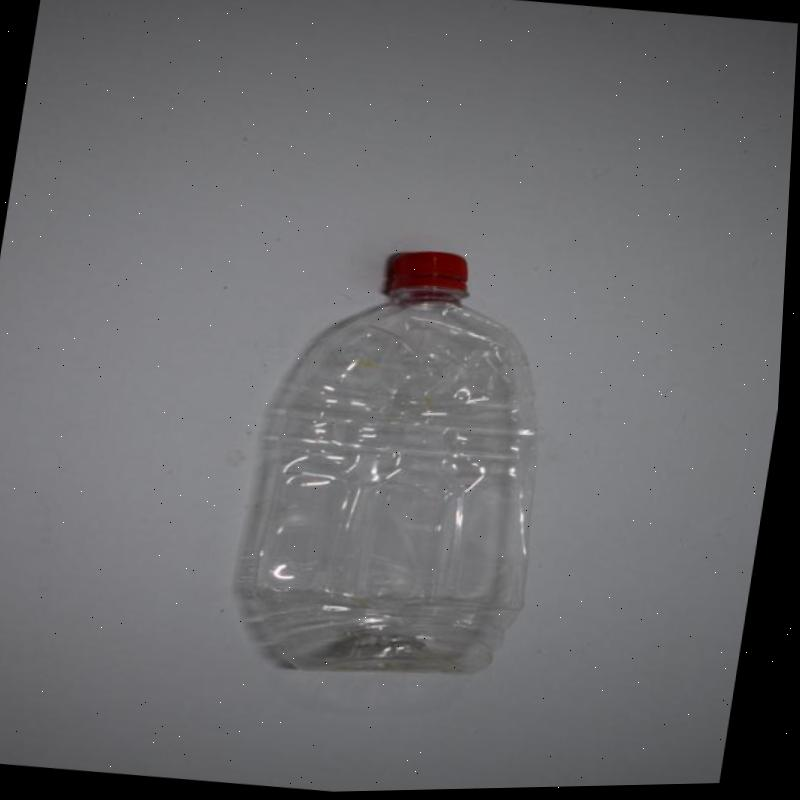botella: (224, 236, 577, 696)
